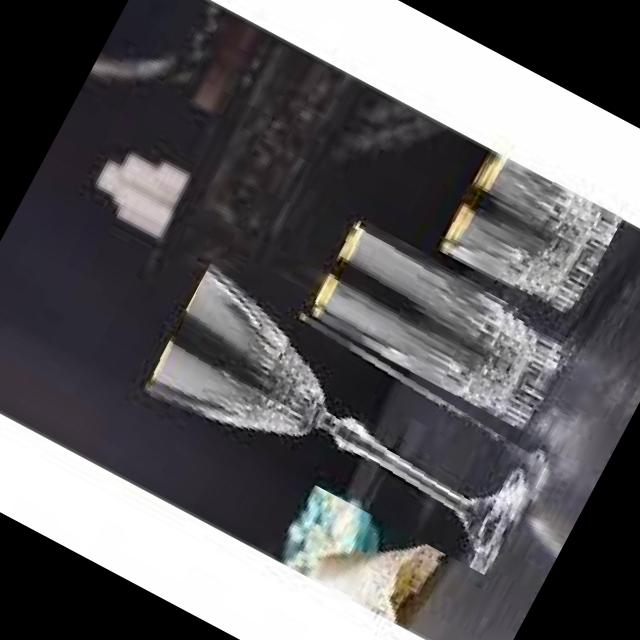Glass: (142, 256, 568, 580), (305, 217, 581, 433), (434, 146, 624, 320)
